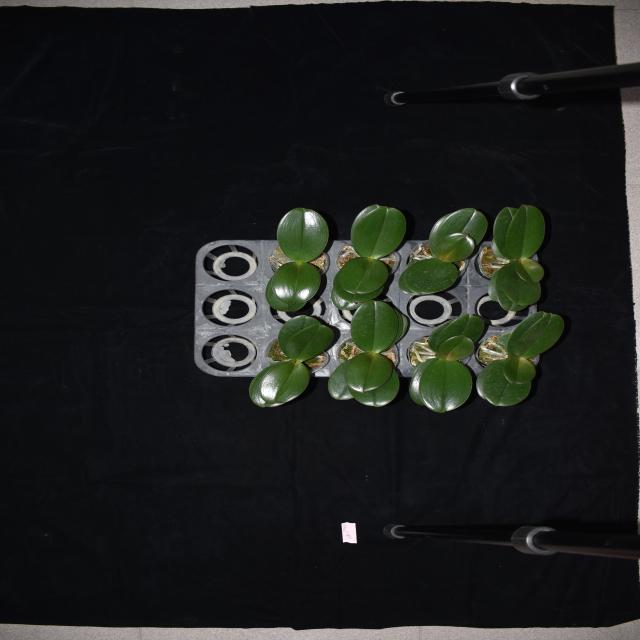leaf: (347, 299, 410, 351), (427, 208, 486, 260), (277, 204, 327, 261), (427, 316, 489, 360), (412, 362, 472, 407), (356, 207, 408, 258), (253, 361, 310, 406), (480, 357, 532, 406), (498, 205, 546, 258), (267, 263, 321, 310), (507, 313, 562, 357), (348, 359, 398, 406), (495, 262, 543, 310), (344, 351, 402, 390), (286, 315, 331, 361), (401, 262, 463, 295), (339, 257, 386, 300), (434, 232, 475, 258), (505, 356, 536, 384), (329, 364, 351, 398), (518, 260, 548, 283)
